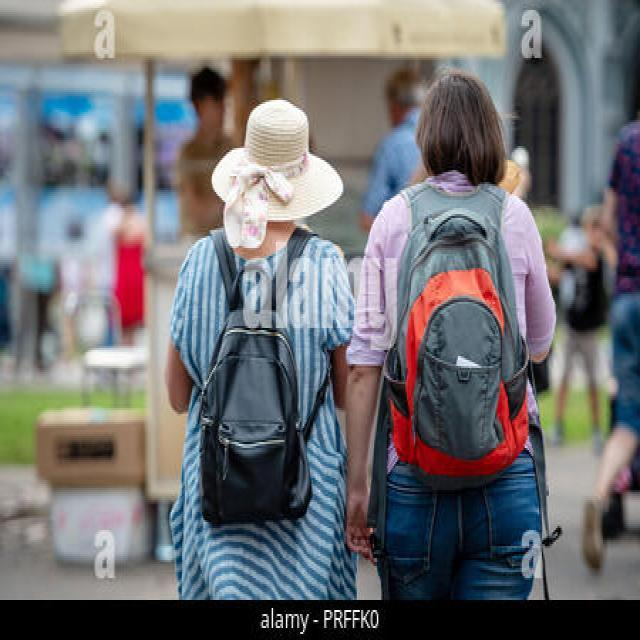Backpacks: (398, 212, 530, 482), (198, 309, 312, 526)
